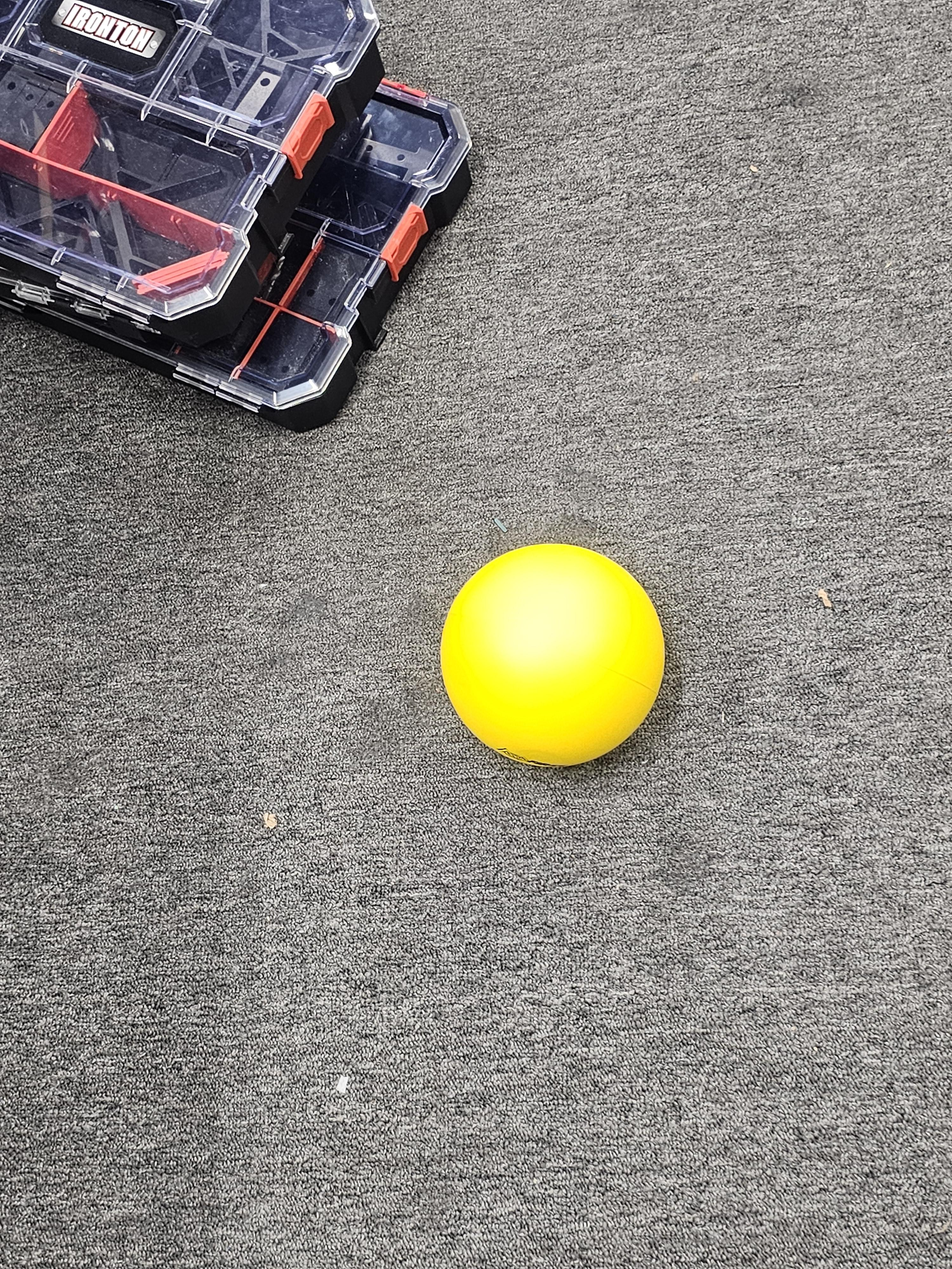fuel: (432, 535, 673, 778)
